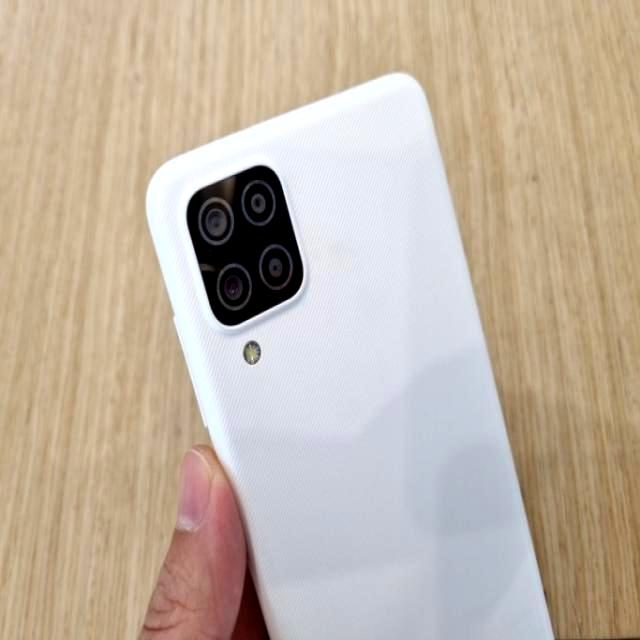lens_back: (256, 230, 300, 294), (205, 261, 254, 318), (194, 197, 237, 245), (246, 170, 278, 233)
phone: (143, 67, 561, 640)
